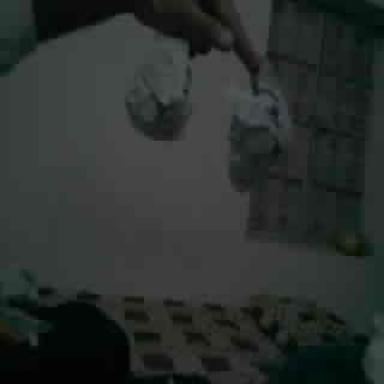paper: (227, 77, 290, 187), (127, 37, 191, 139)
